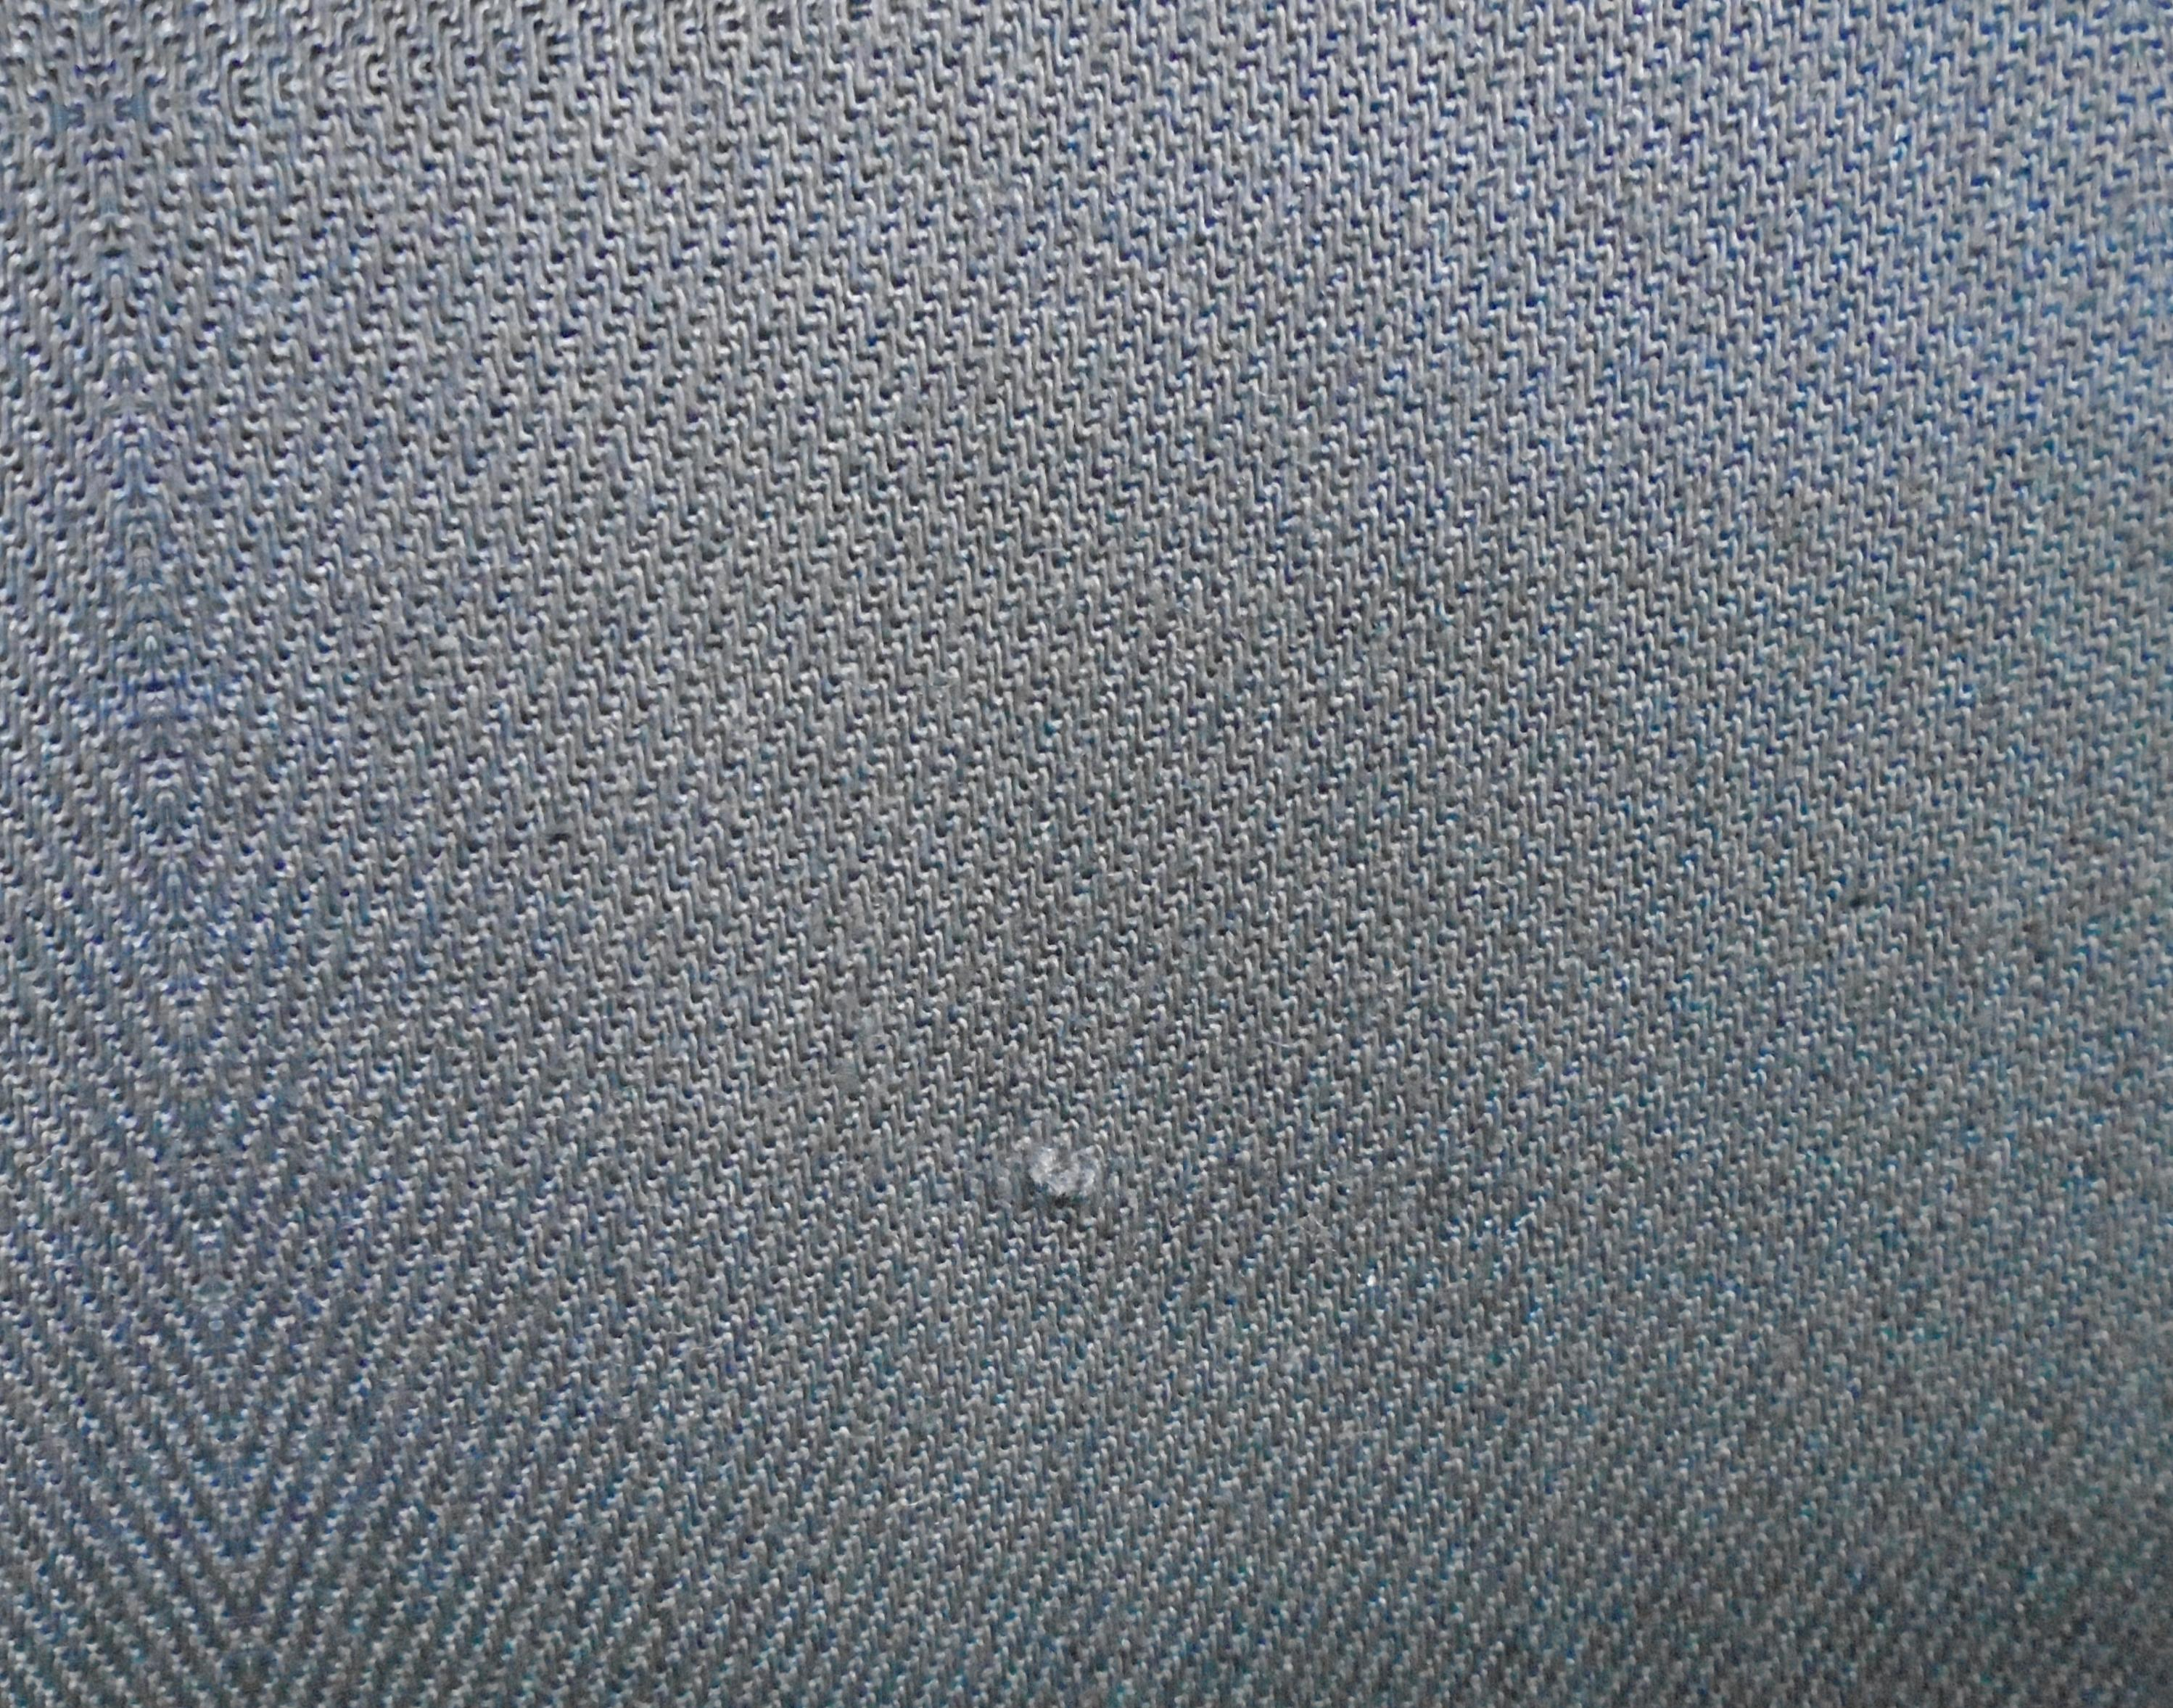knot: (991, 1110, 1154, 1255)
